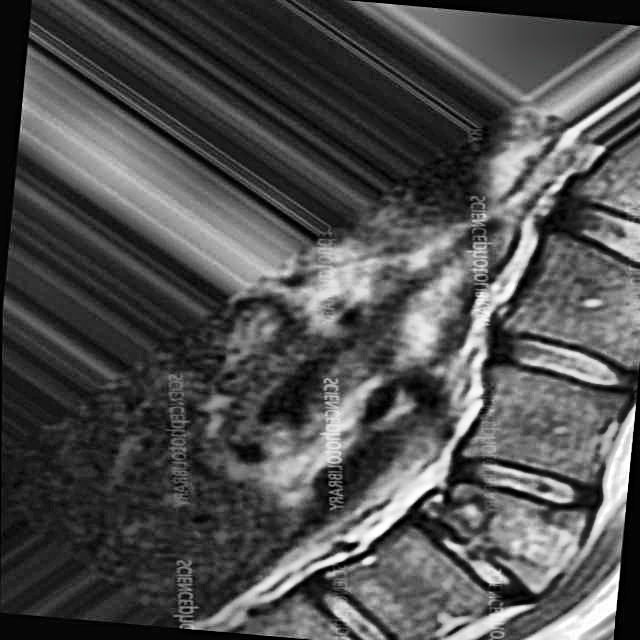Comminuted: (406, 454, 598, 618)
